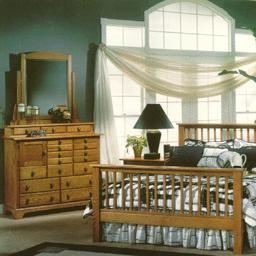Armario: (13, 139, 91, 208)
Cama: (97, 126, 253, 242)
Ventana: (148, 6, 229, 120), (102, 21, 143, 140)
